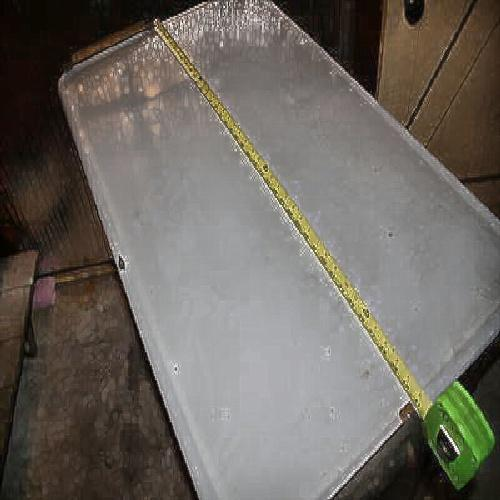cabinet: (68, 26, 487, 475)
